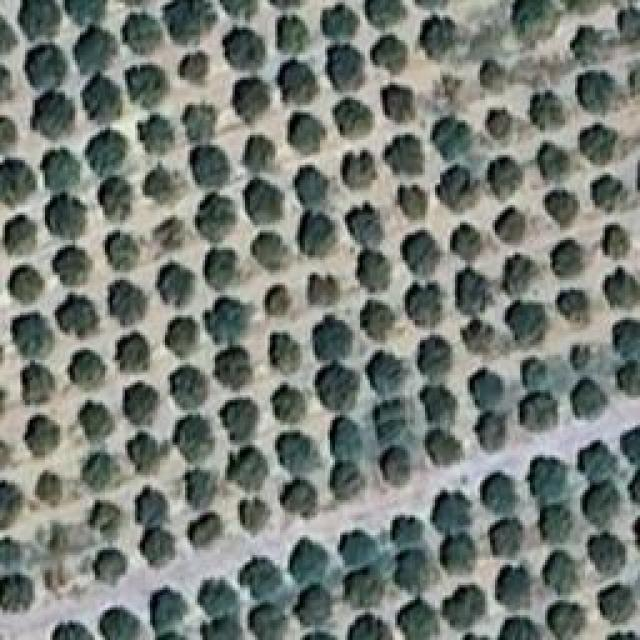Tree: (50, 240, 97, 292), (160, 0, 216, 39), (272, 60, 319, 106), (84, 75, 126, 124), (240, 558, 287, 601), (578, 68, 625, 111), (155, 260, 197, 307), (345, 568, 392, 610), (434, 483, 476, 530), (535, 500, 579, 543), (178, 415, 219, 461), (90, 127, 130, 174), (10, 313, 57, 353), (133, 485, 173, 532), (275, 430, 323, 469), (25, 43, 69, 85), (595, 580, 637, 624), (442, 583, 488, 623), (200, 572, 239, 619), (233, 445, 269, 495), (418, 12, 458, 57), (473, 407, 513, 452), (507, 298, 552, 338), (23, 410, 62, 456), (510, 0, 557, 38), (590, 170, 628, 217), (548, 603, 596, 640), (533, 454, 575, 496), (30, 90, 71, 133), (148, 588, 189, 631), (45, 195, 85, 239), (123, 10, 163, 54), (195, 195, 235, 239), (95, 177, 134, 222), (225, 75, 267, 116), (313, 320, 354, 362), (285, 110, 325, 153), (293, 585, 336, 625), (398, 600, 441, 640), (403, 228, 442, 272), (162, 365, 207, 403), (490, 563, 531, 604), (438, 168, 479, 209), (130, 427, 166, 473), (408, 285, 443, 332), (225, 23, 265, 64), (248, 600, 289, 640), (370, 353, 410, 394), (245, 185, 284, 227), (383, 135, 422, 177), (600, 260, 639, 302), (205, 247, 241, 292), (320, 365, 356, 410), (208, 300, 247, 341), (460, 310, 499, 351), (138, 110, 175, 153), (285, 545, 328, 582), (0, 158, 36, 202), (100, 228, 139, 268), (78, 400, 117, 440), (83, 450, 123, 489), (393, 550, 433, 589), (425, 425, 465, 464), (268, 383, 306, 424), (300, 218, 337, 260), (580, 478, 617, 520), (335, 532, 382, 565), (18, 3, 61, 39), (278, 475, 314, 518), (328, 40, 363, 84), (167, 317, 201, 362), (250, 230, 289, 269), (273, 13, 311, 53), (573, 25, 613, 63), (215, 348, 252, 389), (590, 533, 631, 570), (60, 293, 95, 336), (77, 25, 111, 69), (0, 573, 34, 617), (535, 140, 569, 184), (182, 470, 227, 503), (193, 143, 231, 182), (580, 440, 618, 479), (140, 528, 176, 569), (348, 203, 384, 244), (115, 335, 150, 377), (433, 113, 468, 155), (483, 105, 525, 140), (220, 398, 253, 442), (108, 285, 145, 324), (20, 363, 57, 402), (440, 540, 475, 581), (68, 350, 110, 384), (565, 375, 607, 409), (341, 143, 374, 186), (558, 290, 595, 328), (380, 83, 416, 122), (390, 180, 425, 220), (528, 90, 568, 125), (92, 498, 126, 539), (597, 223, 631, 264), (7, 215, 39, 258), (235, 495, 272, 532), (48, 148, 84, 186), (128, 68, 166, 104), (293, 165, 331, 201), (503, 255, 541, 291), (523, 393, 561, 429), (493, 208, 532, 243), (490, 158, 524, 198), (462, 373, 507, 403), (142, 165, 174, 207), (373, 33, 410, 69), (478, 60, 514, 97), (335, 98, 370, 136), (102, 607, 142, 640), (361, 248, 394, 288), (445, 222, 485, 255), (367, 0, 409, 31), (93, 550, 129, 586), (550, 235, 586, 271), (547, 185, 580, 224), (123, 385, 158, 421), (378, 448, 408, 490), (415, 338, 450, 374), (423, 385, 460, 419), (8, 265, 42, 301), (243, 135, 277, 171), (373, 400, 409, 434), (183, 107, 220, 140), (362, 300, 395, 337), (200, 615, 248, 640), (610, 315, 640, 355), (323, 8, 362, 38), (331, 415, 358, 458), (307, 275, 341, 309), (542, 550, 575, 585), (457, 273, 490, 308), (152, 218, 184, 252), (268, 336, 302, 368), (485, 525, 519, 557), (520, 358, 552, 392), (613, 355, 640, 395), (485, 476, 518, 508), (348, 613, 387, 640), (263, 283, 293, 318), (588, 128, 618, 163), (335, 460, 359, 503), (615, 0, 640, 40), (178, 50, 208, 83), (35, 470, 63, 504), (0, 540, 25, 574), (193, 518, 222, 546), (390, 515, 420, 542), (68, 0, 104, 22), (55, 622, 98, 640), (220, 0, 256, 21), (620, 425, 640, 462), (0, 115, 20, 152), (503, 622, 543, 640), (0, 480, 17, 520), (630, 460, 640, 505)
